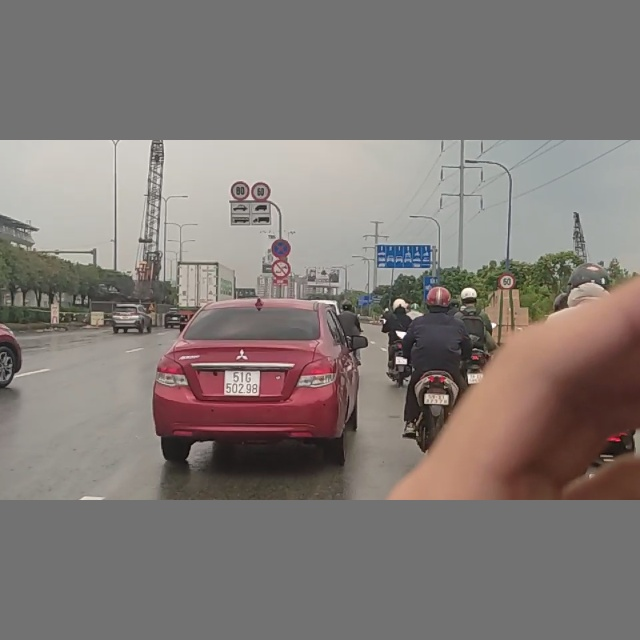P.130: (269, 239, 291, 257)
